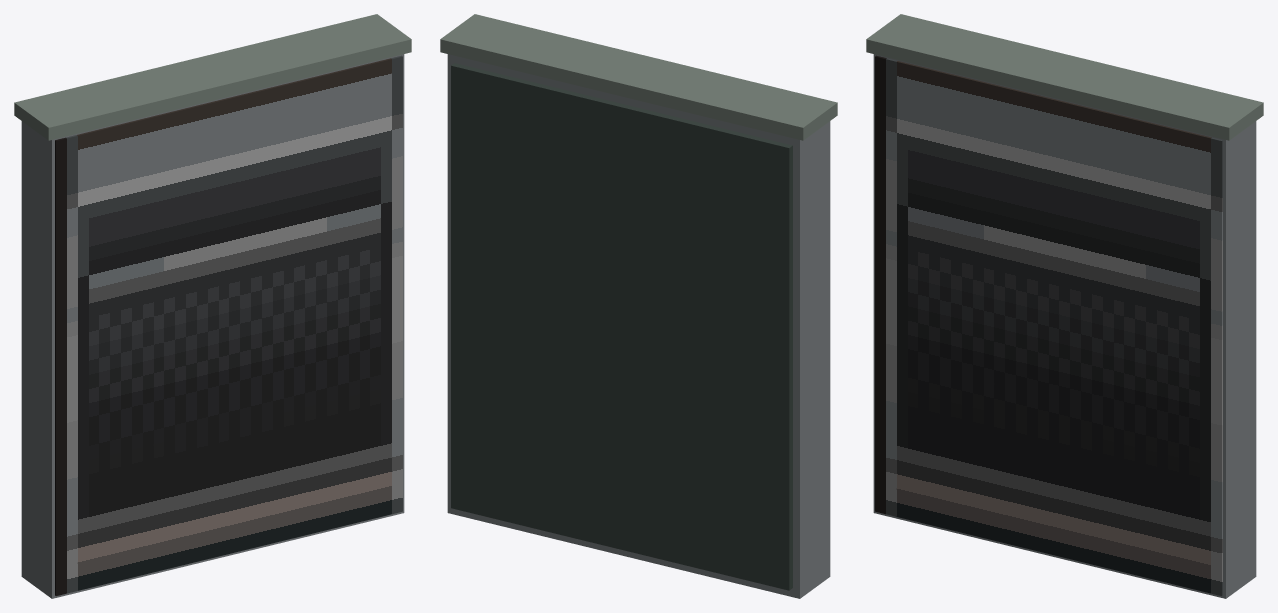
The model's file is CMU3DInteriorRMCGunRackType71Filled.glb.
The picture shows the model from 3 angles, left to right: view 1: azimuth 30°, elevation 25°; view 2: azimuth 150°, elevation 25°; view 3: azimuth 330°, elevation 25°; orthographic projection.
Parts seen in each view (by area): view 1: source equipment controls, closed equipment casing, reinforced top; view 2: rear service plate, closed equipment casing, reinforced top; view 3: source equipment controls, closed equipment casing, reinforced top.
Boxes of the visible parts, left/top/right/bottom form: source equipment controls: left=55, top=55, right=402, bottom=595; closed equipment casing: left=21, top=54, right=404, bottom=598; reinforced top: left=14, top=14, right=411, bottom=140; rear service plate: left=451, top=63, right=792, bottom=590; closed equipment casing: left=447, top=54, right=830, bottom=598; reinforced top: left=440, top=14, right=837, bottom=140; source equipment controls: left=875, top=55, right=1222, bottom=595; closed equipment casing: left=873, top=54, right=1256, bottom=598; reinforced top: left=866, top=14, right=1263, bottom=140.
Bounding box in the file's own units: 1.03 × 1.29 × 0.178.
Materials: 4 (1 with a texture image).
